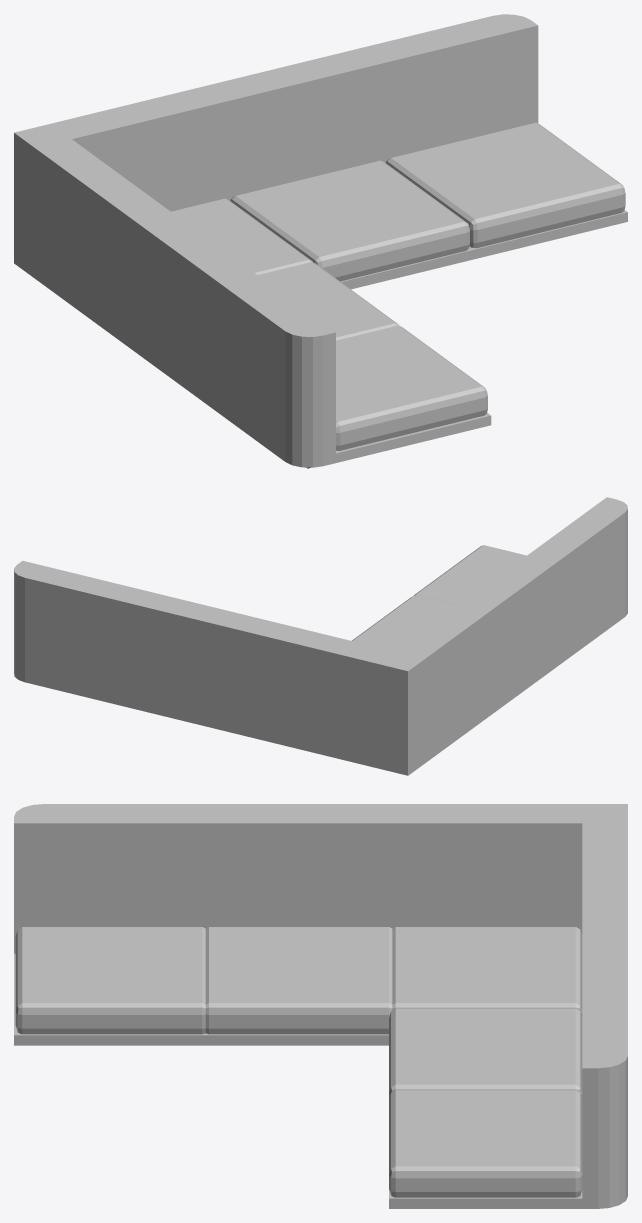
Rendered from Sofa_1.fbx.
3 renders of one model, top to bottom at view 1: azimuth 30°, elevation 25°; view 2: azimuth 150°, elevation 25°; view 3: azimuth 270°, elevation 25°, orthographic. The views are drawn at different scales.
Visible parts, largest first — view 1: Sofa_1; view 2: Sofa_1; view 3: Sofa_1.
Part boxes in pixels (x1,y1,x2,y2): Sofa_1: [14, 14, 627, 468]; Sofa_1: [14, 497, 627, 775]; Sofa_1: [14, 804, 627, 1208].
Bounding box in the file's own units: 1.94 × 0.513 × 1.91.
